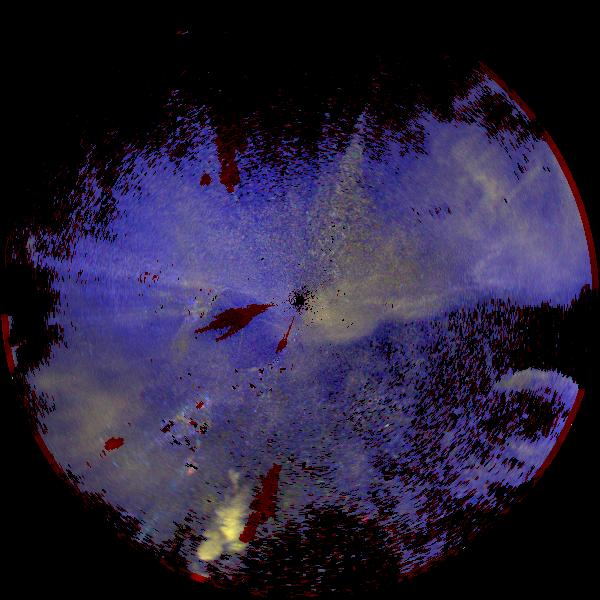roost: (113, 309, 218, 414)
